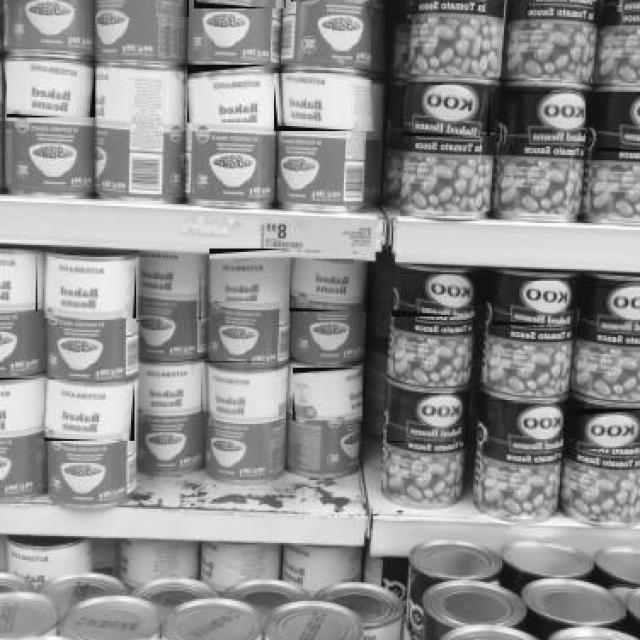Beans: (272, 74, 374, 132), (42, 380, 134, 442), (40, 262, 136, 320), (5, 60, 95, 120), (202, 360, 286, 420), (186, 65, 270, 124), (288, 258, 372, 314), (402, 85, 490, 138), (134, 256, 201, 324), (500, 92, 584, 146), (208, 248, 289, 304), (484, 400, 564, 453), (385, 394, 468, 444), (492, 281, 580, 327), (291, 368, 364, 422), (136, 360, 203, 416), (390, 274, 475, 318), (572, 408, 640, 452), (596, 91, 640, 153), (586, 286, 640, 333), (0, 248, 38, 313), (0, 378, 43, 432), (99, 0, 189, 19), (192, 0, 286, 10)
